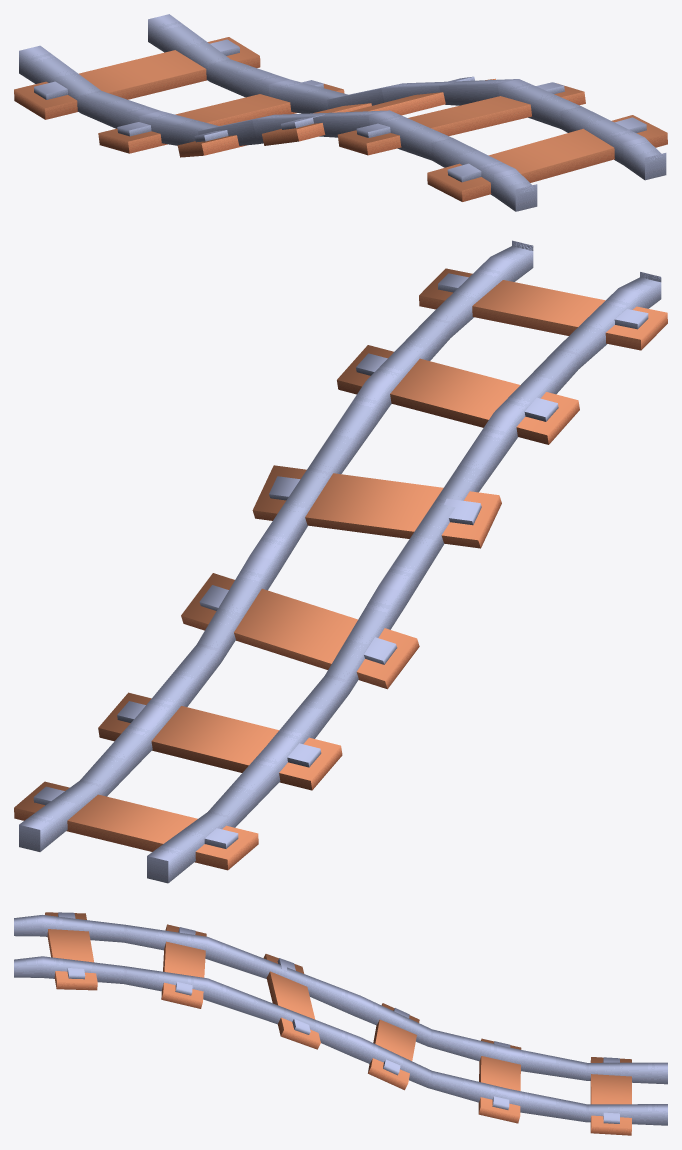
Rendered from railroad-damaged-straight-hill-complete.glb.
3 views of the same model, one above another, from view 1: azimuth 30°, elevation 25°; view 2: azimuth 150°, elevation 25°; view 3: azimuth 270°, elevation 25° (orthographic). The views are drawn at different scales.
Parts seen in each view (by area): view 1: railroad-damaged-straight-hill-complete; view 2: railroad-damaged-straight-hill-complete; view 3: railroad-damaged-straight-hill-complete.
Boxes of the visible parts, x1,y1,x2,y2 form: railroad-damaged-straight-hill-complete: (14, 14, 667, 211); railroad-damaged-straight-hill-complete: (14, 240, 667, 883); railroad-damaged-straight-hill-complete: (14, 912, 667, 1135).
Size of the model in its own units: 1.02 by 1.1 by 4.
1 material, 1 textured.
